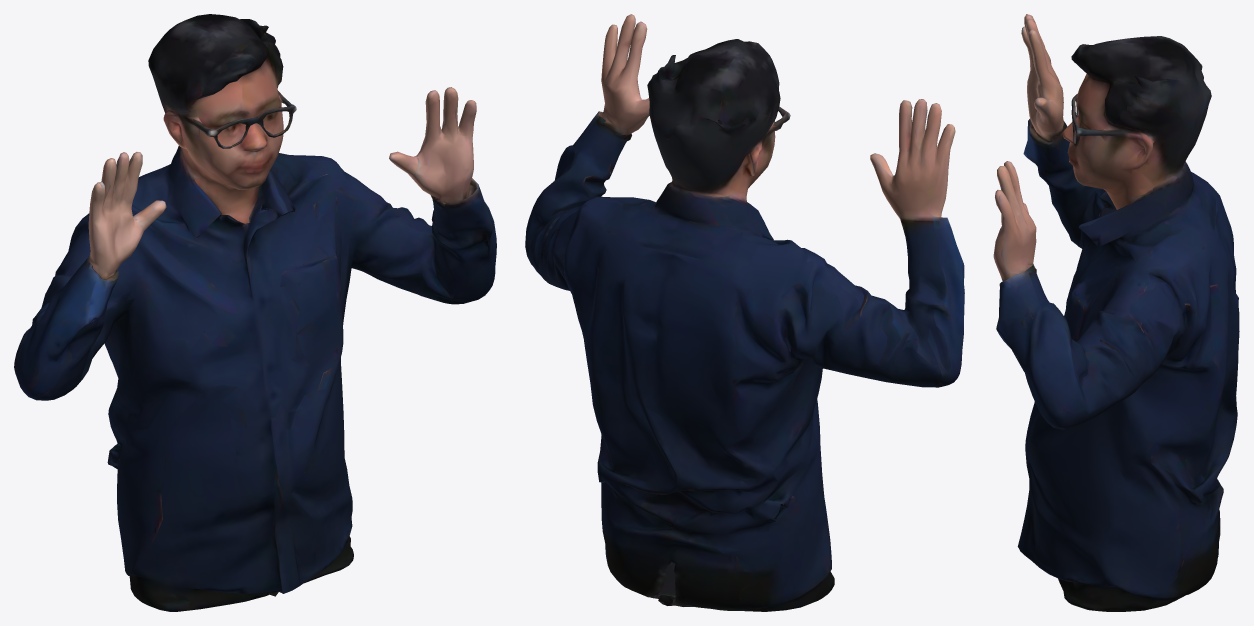
Rendered from fan-m-glasses-s2.glb.
3 renders of one model, left to right at view 1: azimuth 30°, elevation 25°; view 2: azimuth 150°, elevation 25°; view 3: azimuth 270°, elevation 25°, orthographic. The views are drawn at different scales.
Visible parts, largest first — view 1: geometry_0; view 2: geometry_0; view 3: geometry_0.
Part boxes in pixels (<box>): geometry_0: <box>14,14,496,611</box>; geometry_0: <box>525,14,964,611</box>; geometry_0: <box>993,14,1239,611</box>.
Bounding box in the file's own units: 0.8742 × 0.9991 × 0.4269.
1 material, 1 textured.
